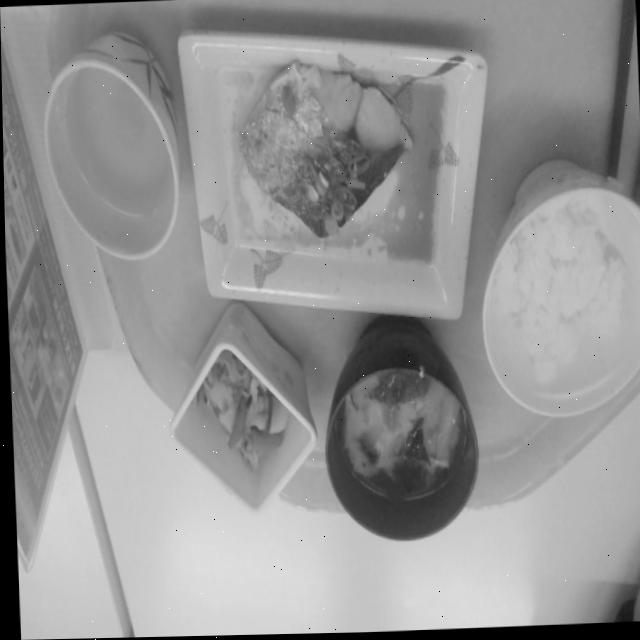汤锅炖物: (341, 372, 464, 512)
熟制海鲜: (224, 54, 422, 248)
米饭主食: (493, 187, 640, 409)
